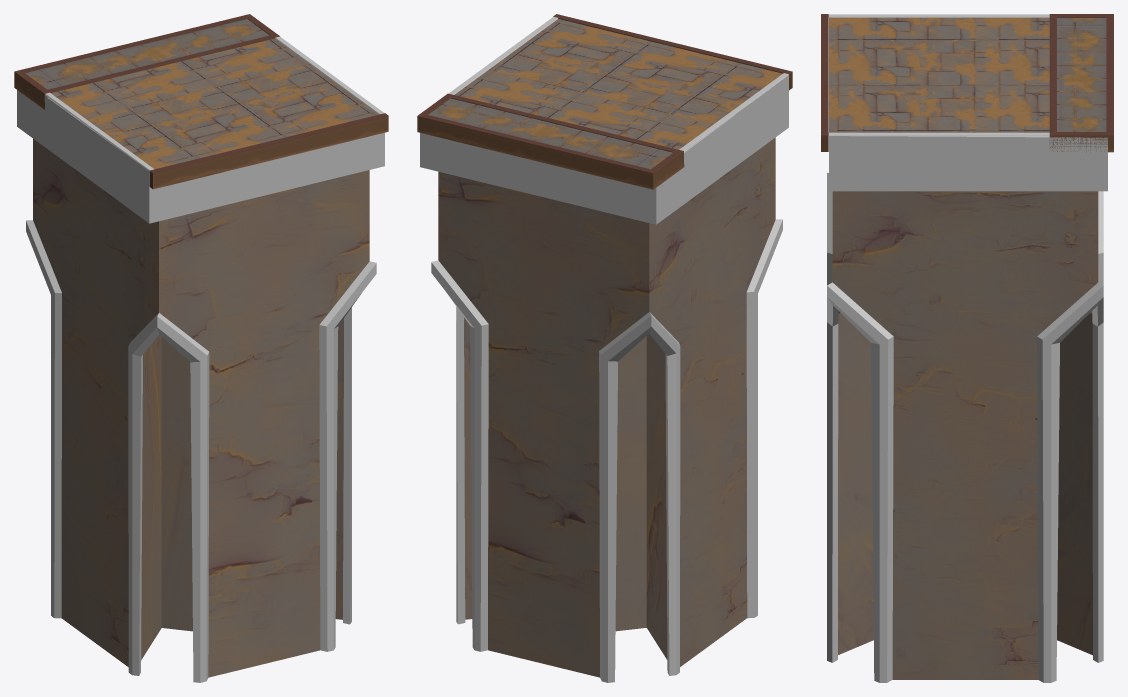
File: prop_Platform_Square_Middle.fbx
The picture shows the model from 3 angles, left to right: view 1: azimuth 30°, elevation 25°; view 2: azimuth 150°, elevation 25°; view 3: azimuth 270°, elevation 25°; orthographic projection. The views are drawn at different scales.
Visible parts, largest first — view 1: prop_Platform_Square_Middle; view 2: prop_Platform_Square_Middle; view 3: prop_Platform_Square_Middle.
Boxes of the visible parts, x1,y1,x2,y2 form: prop_Platform_Square_Middle: [14, 14, 388, 682]; prop_Platform_Square_Middle: [417, 14, 792, 682]; prop_Platform_Square_Middle: [821, 14, 1113, 682].
Bounding box in the file's own units: 854 × 1815 × 872.
